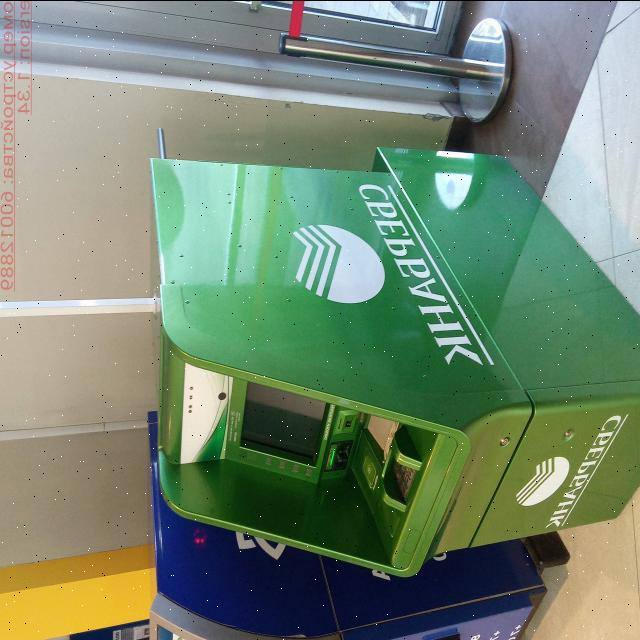bank: (147, 130, 640, 576)
